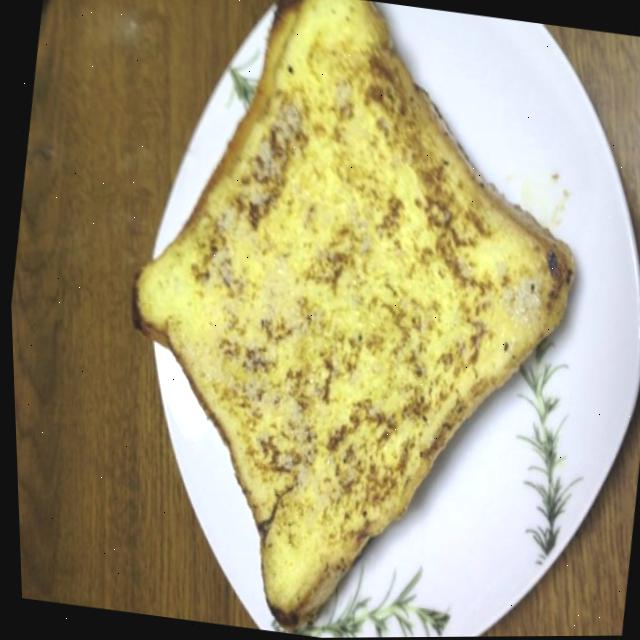面包点心: (59, 0, 640, 640)
